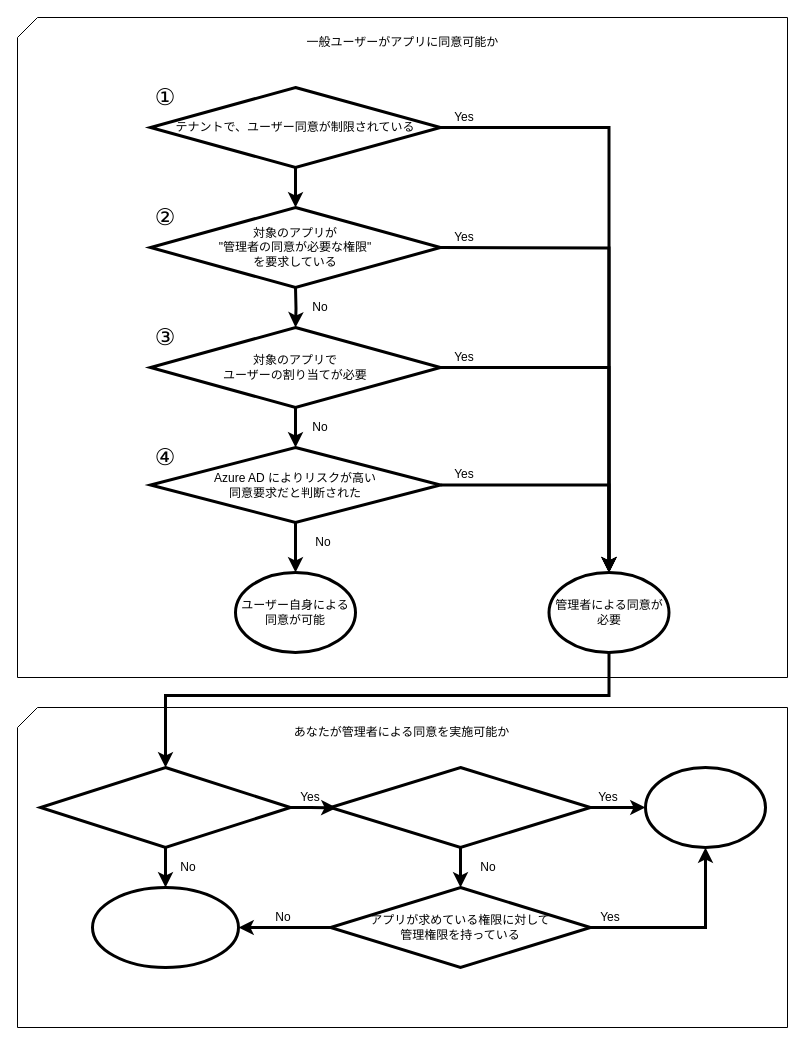
This 805x1045 diagram has some shape labels left out. Here are the shapes that lost their labels. From the top down, the centre of each, then its label:
At (165,807): "アプリケーション管理者ロール を持っているユーザーである".
At (460,807): "アプリはユーザー委任の権限 を求めている".
At (705,807): "管理者による同意が可能".
At (165,927): "管理ロールを持つユーザーに依頼が必要".
